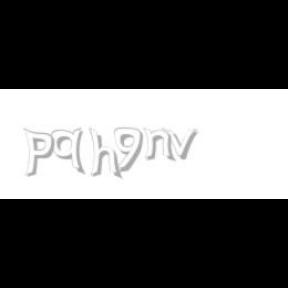9: (114, 128, 142, 172)
P: (23, 128, 55, 178)
h: (88, 128, 124, 180)
n: (143, 128, 177, 162)
q: (51, 128, 87, 176)
v: (162, 128, 202, 160)
